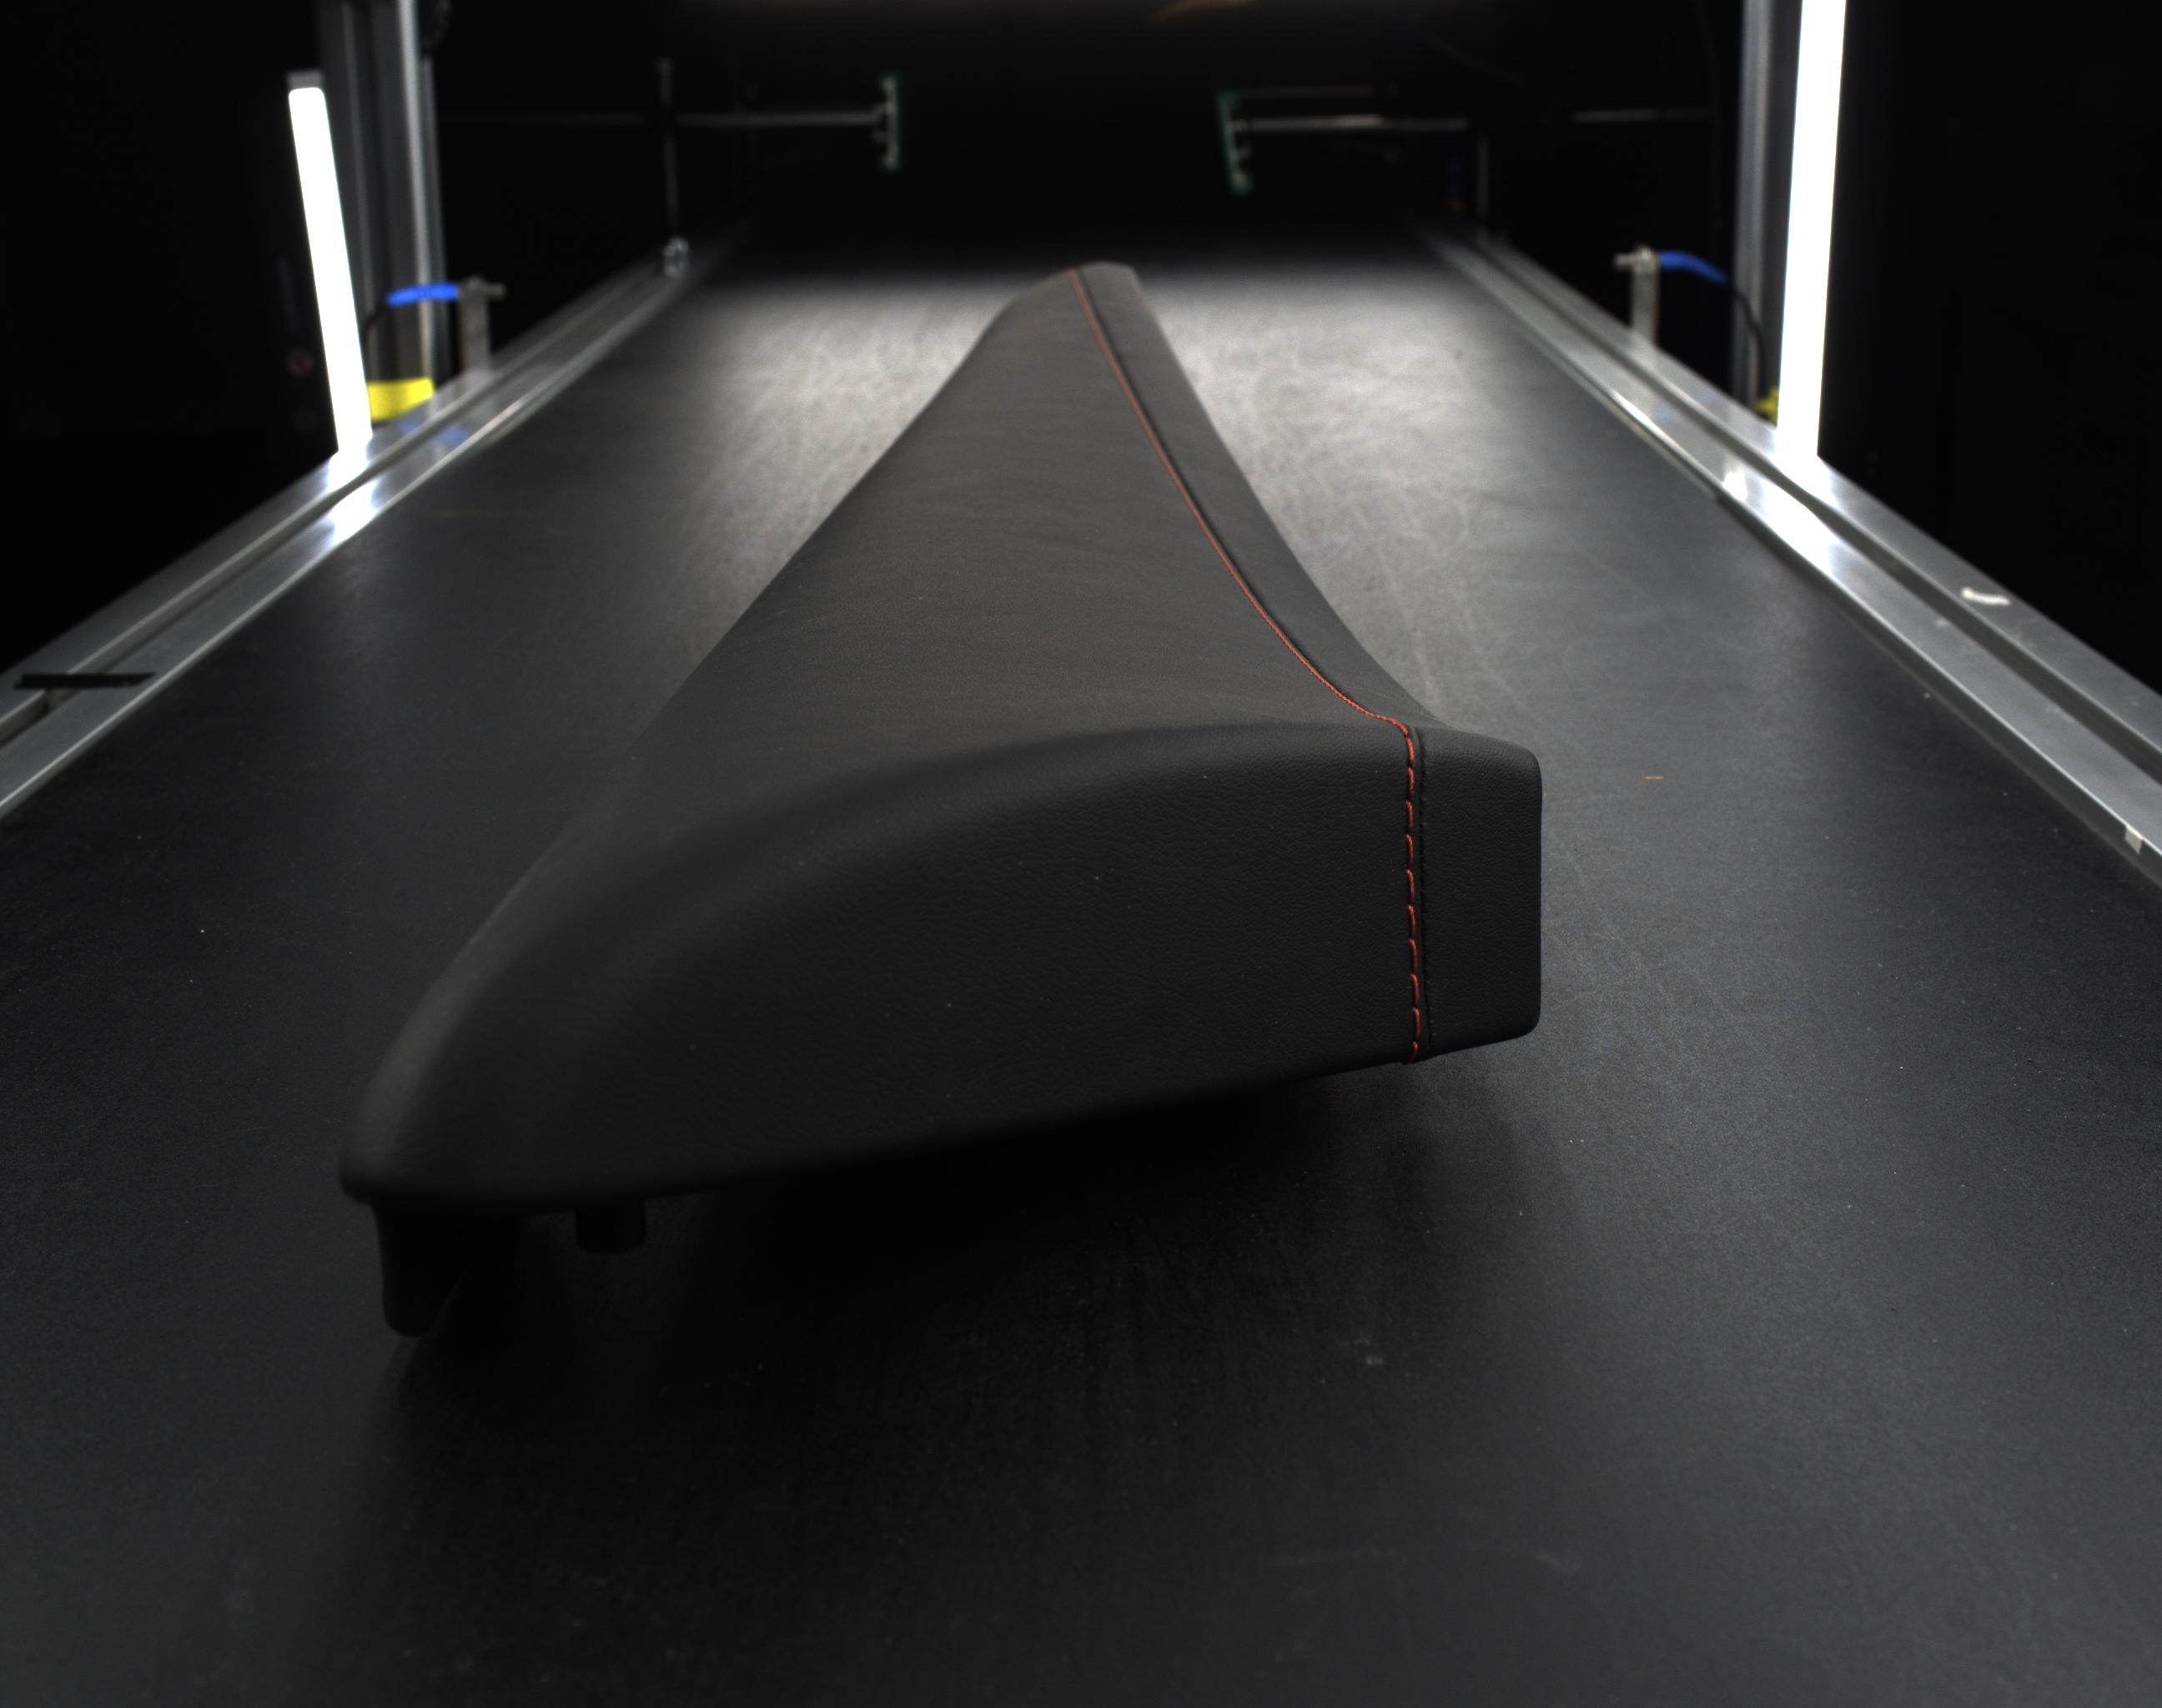vline: (1406, 765, 1416, 800), (1406, 867, 1416, 902), (1406, 904, 1418, 934), (1404, 832, 1414, 865), (1411, 972, 1421, 1001), (1409, 937, 1418, 971), (1413, 1008, 1421, 1039), (1406, 802, 1414, 829)
